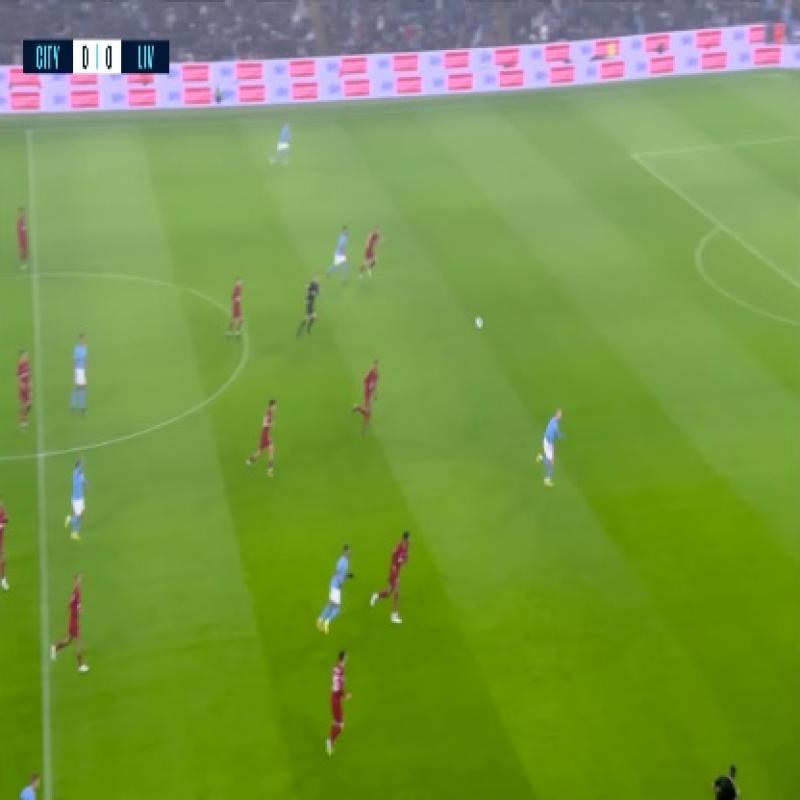10: (710, 211, 728, 235)
13: (18, 114, 40, 146)
14: (19, 256, 48, 290)
15: (23, 431, 54, 477)
9: (622, 142, 640, 168)
c: (230, 314, 262, 358)
